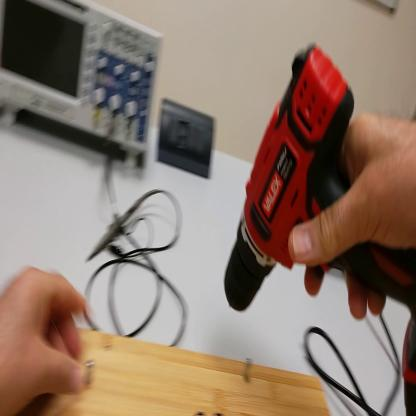electric screwdriver: (226, 32, 416, 383)
hand: (289, 109, 416, 322), (2, 264, 95, 416)
oscilloscope: (1, 1, 166, 171)
oscilloscope probe tip: (88, 190, 150, 263)
working area: (28, 331, 337, 416)
